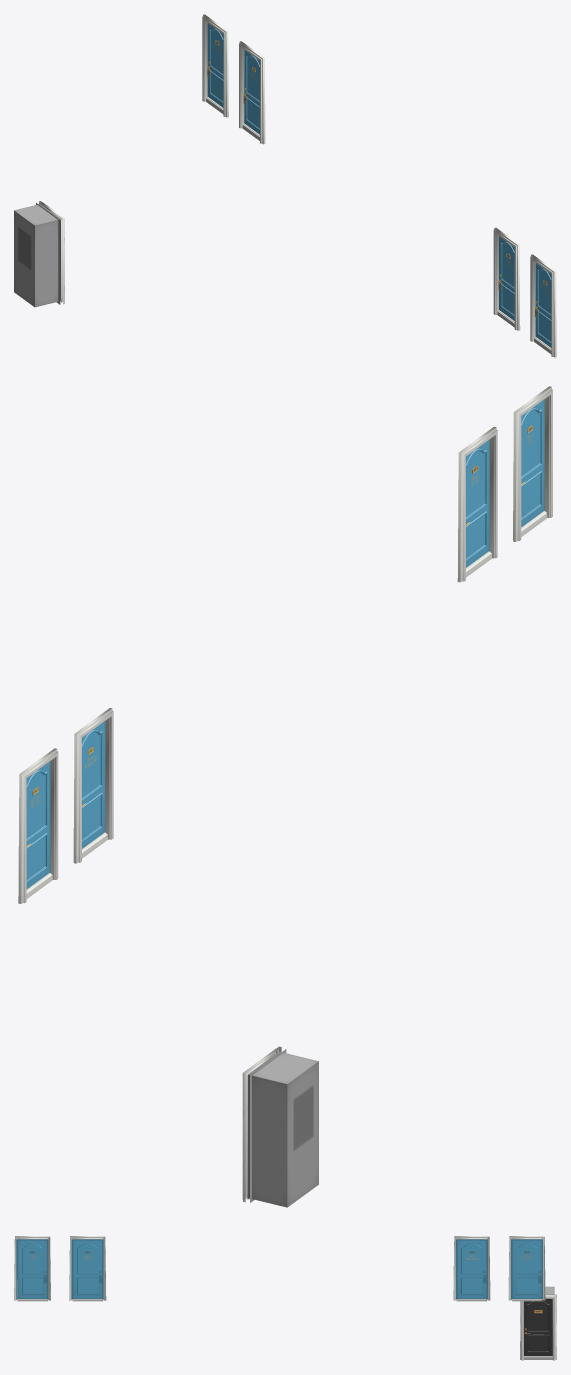
The model's file is CommunityRoomB_DoorB.fbx.
The picture shows the model from 3 angles, top to bottom: view 1: azimuth 30°, elevation 25°; view 2: azimuth 150°, elevation 25°; view 3: azimuth 270°, elevation 25°; orthographic projection. The views are drawn at different scales.
Parts seen in each view (by area): view 1: CommunityRoomB_DoorB; view 2: CommunityRoomB_DoorB; view 3: CommunityRoomB_DoorB.
Part boxes in pixels (x1,y1,x2,y2): CommunityRoomB_DoorB: (14, 14, 556, 357); CommunityRoomB_DoorB: (18, 386, 552, 1207); CommunityRoomB_DoorB: (14, 1236, 556, 1360).
Bounding box in the file's own units: 548 × 672 × 1829.
